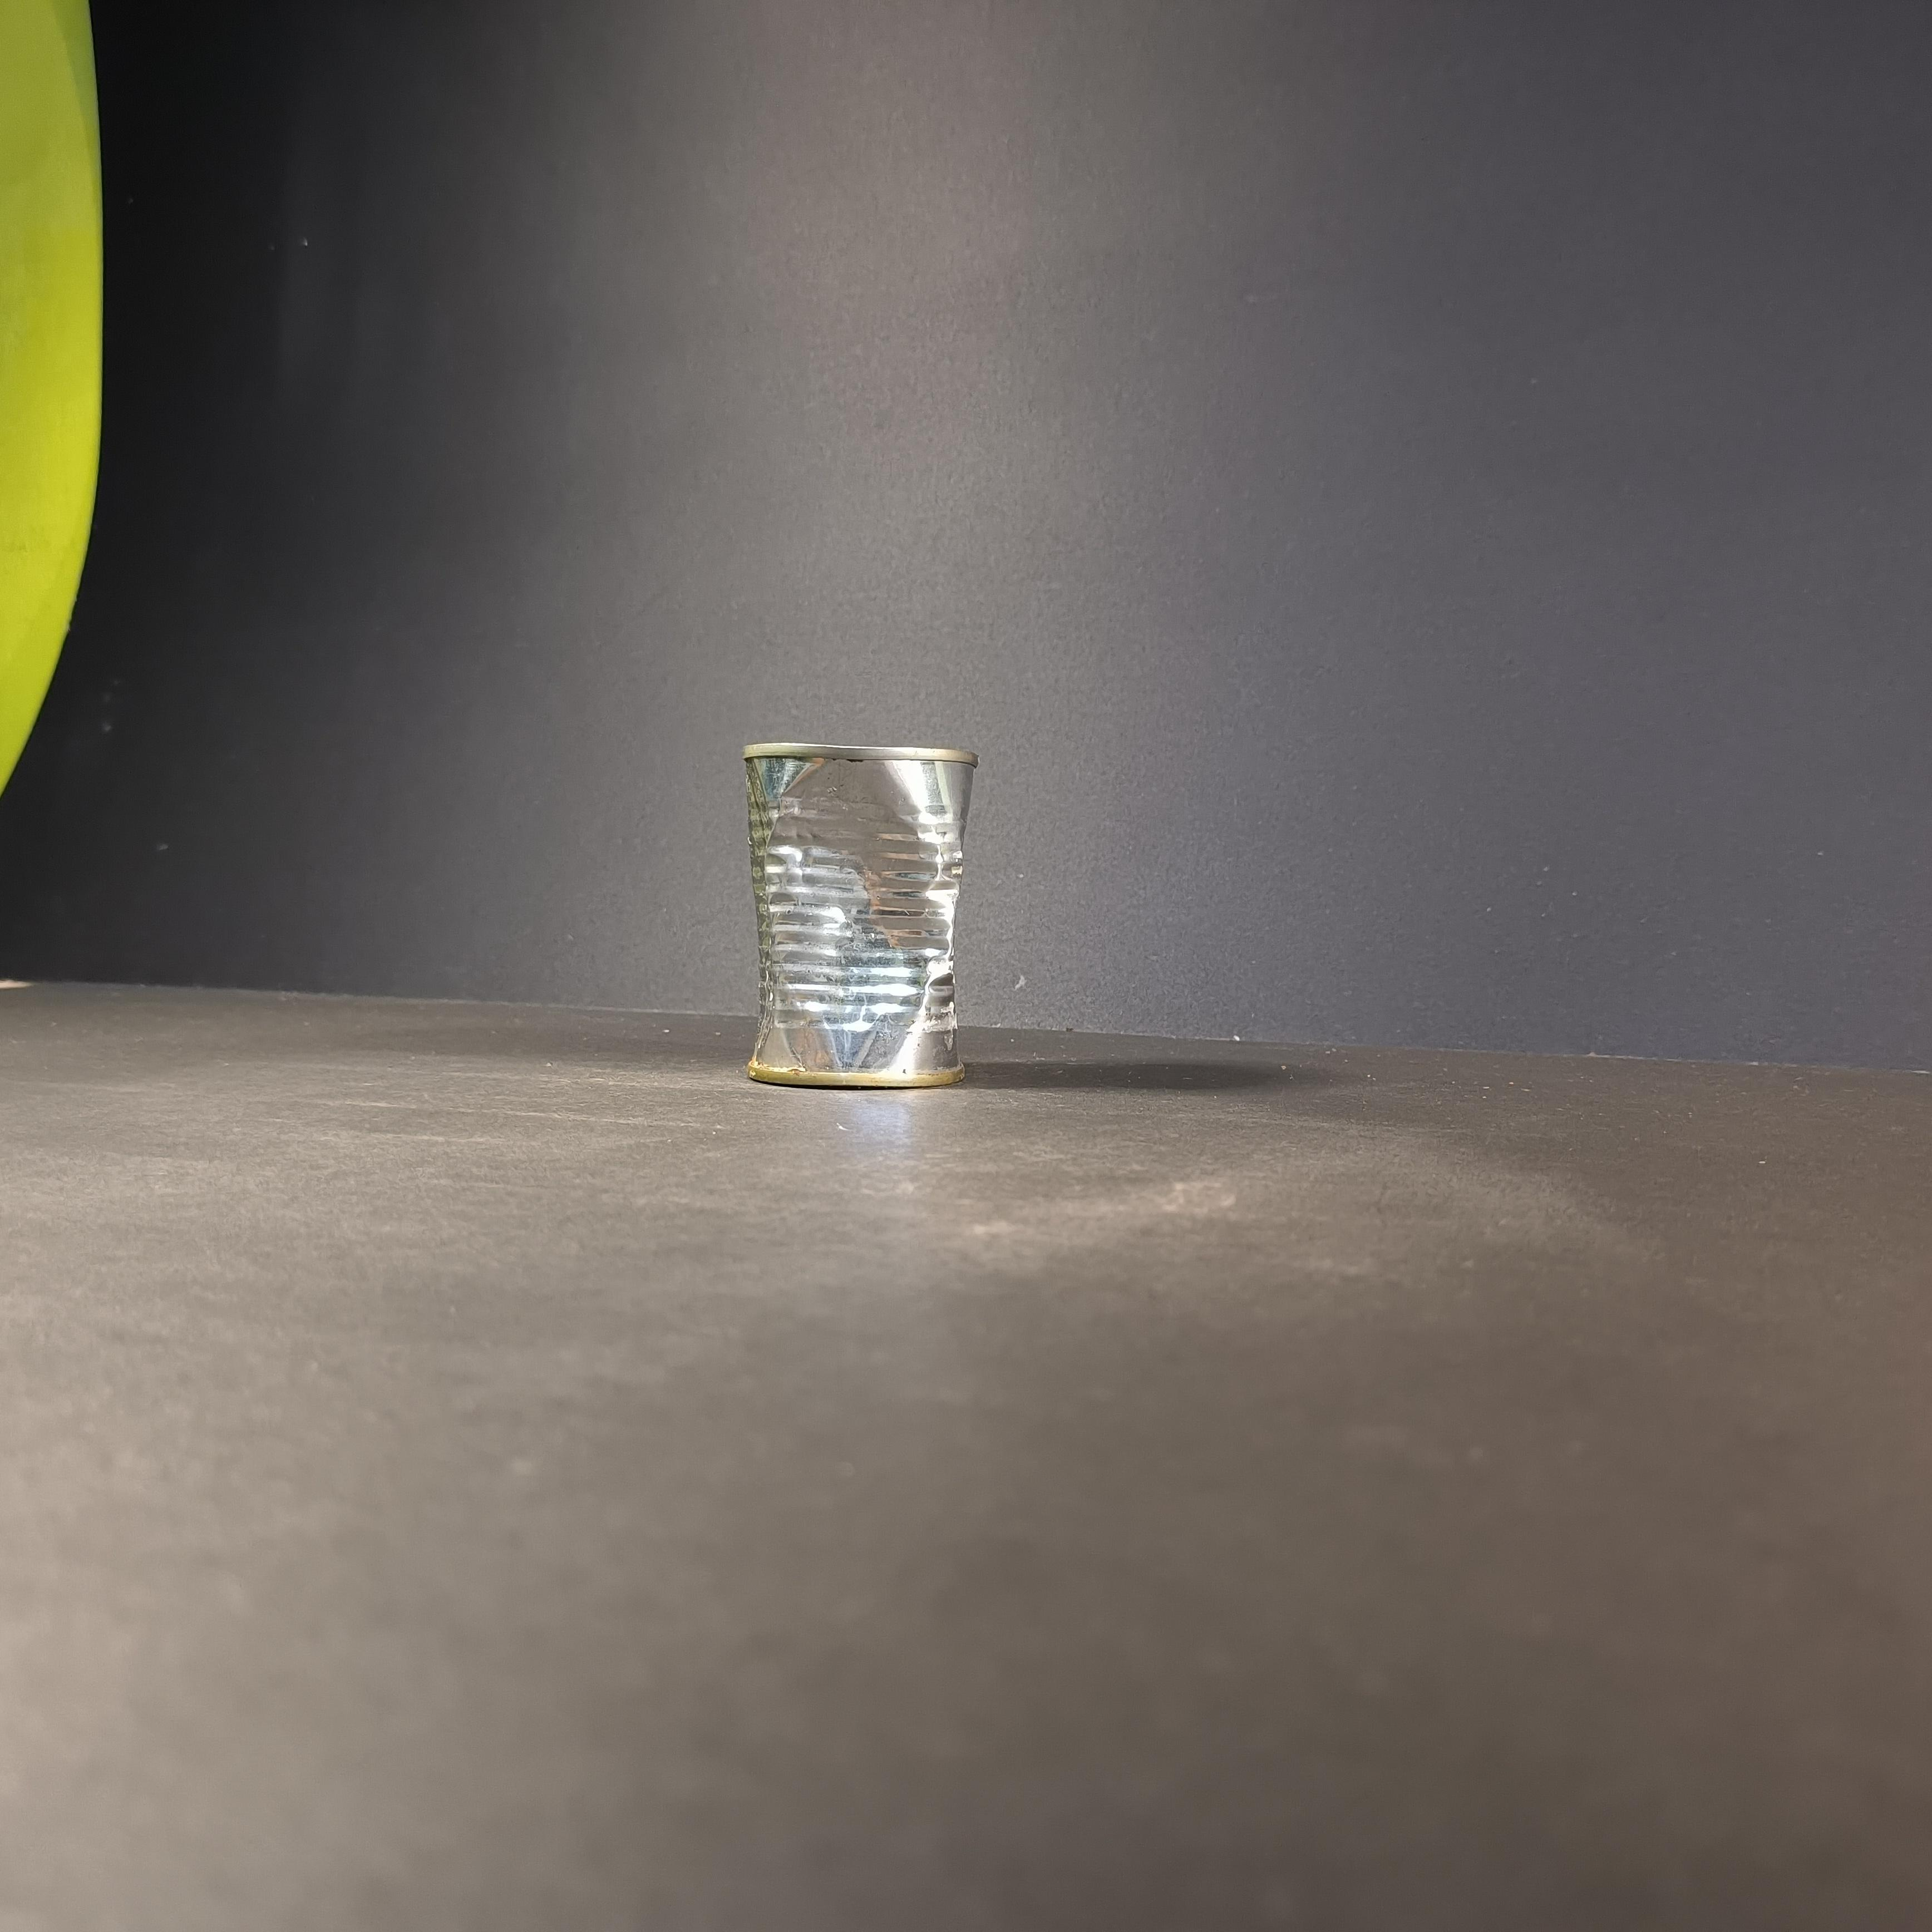Dented: (725, 706, 985, 1088)
